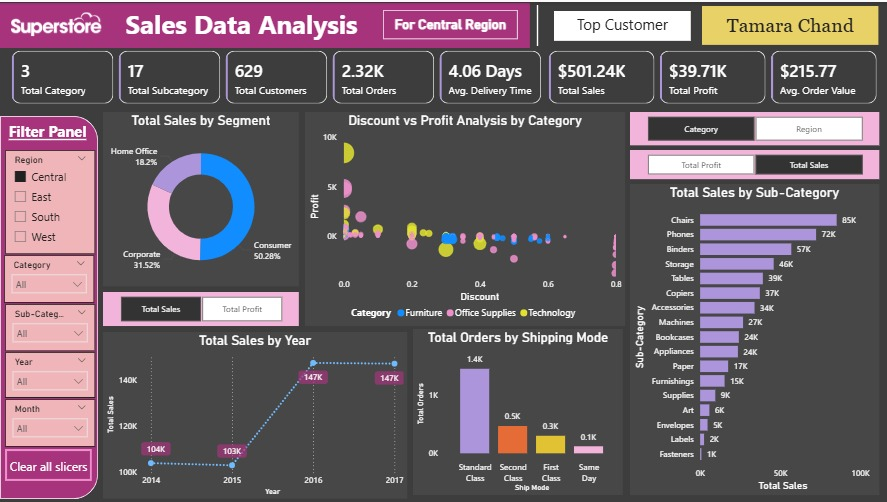

What the dashboard file says about the page in this screenshot:
{"tool":"powerbi","page":{"name":"Page 1","canvas":[1280,720],"ordinal":0},"visuals":[{"type":"shape","box":[0,0,1280.2,63.4],"z":0},{"type":"textbox","box":[361.4,0,535.7,60.5],"z":1000},{"type":"cardVisual","fields":{"Data":["sales_data.Total Customers","sales_data.Total Orders","sales_data.Total Category","sales_data.Total Subcategory"]},"box":[148.3,53.3,653.8,110.9],"z":2000},{"type":"cardVisual","fields":{"Data":["sales_data.Total Sales","sales_data.Total Profit","sales_data.Average Order Value"]},"box":[774.7,53.3,505.4,110.9],"z":3000},{"type":"shape","box":[0,73.4,141.1,636.5],"z":4000},{"type":"textbox","box":[0,93.8,136.2,49.2],"z":5000},{"type":"lineChart","fields":{"Y":["sales_data.Total Sales"],"Category":["sales_data.month_name"]},"box":[148.3,469.4,748.8,240.5],"z":6000},{"type":"slicer","fields":{"Values":["sales_data.year"]},"box":[6.7,482.2,130,66.7],"z":7000},{"type":"slicer","fields":{"Values":["sales_data.month"]},"box":[6.7,555.6,130,68.9],"z":8000},{"type":"slicer","fields":{"Values":["Choose Y-Axis.Choose Y-Axis"]},"box":[148.3,414.7,277.9,46.1],"z":9000},{"type":"slicer","fields":{"Values":["Choose Y-Axis Values 2.Choose Y-Axis Values"]},"box":[907.2,158.4,358.6,47.5],"z":10000},{"type":"clusteredBarChart","fields":{"Category":["sales_data.Sub-Category"],"Y":["sales_data.Total Sales"]},"box":[907.2,262.1,358.6,447.8],"z":11000},{"type":"slicer","fields":{"Values":["Choose X-Axis.Choose X-Axis"]},"box":[907.2,210.2,358.6,41.8],"z":12000},{"type":"scatterChart","title":"Discount vs Profit Analysis by Category","fields":{"X":["Avg(sales_data.discount)"],"Y":["Sum(sales_data.profit)"],"Size":["Sum(sales_data.sales)"],"Series":["sales_data.Category"],"Category":["sales_data.order_id"]},"box":[439.2,158.4,460.8,299.5],"z":13000},{"type":"donutChart","title":"Total Sales by Segment","fields":{"Category":["sales_data.segment"],"Y":["sales_data.Total Sales"]},"box":[148.3,158.4,282.2,250.6],"z":14000},{"type":"slicer","fields":{"Values":["sales_data.Category"]},"box":[5.6,332.2,130,70],"z":15000},{"type":"slicer","fields":{"Values":["sales_data.Region"]},"box":[0,136.7,141.1,191.1],"z":16000},{"type":"slicer","fields":{"Values":["sales_data.Sub-Category"]},"box":[6.7,407.8,130,67.8],"z":17000},{"type":"image","box":[0,10.1,229,43.2],"z":18000},{"type":"actionButton","box":[7.1,634.3,125.7,45.7],"z":19000},{"type":"card","fields":{"Values":["Choose X-Axis.Dynamic Title1"]},"box":[1074.3,7.1,180,50],"z":20000}]}

Visuals, with their boxes in screenshot pixels (x1, y1, x2, y2), scaled from the page's 1280x720 canvas onto the 887x502 screenshot:
shape: {"x1": 0, "y1": 0, "x2": 886, "y2": 44}
textbox: {"x1": 250, "y1": 0, "x2": 622, "y2": 42}
cardVisual - sales_data.Total Customers x sales_data.Total Orders: {"x1": 103, "y1": 37, "x2": 556, "y2": 114}
cardVisual - sales_data.Total Sales x sales_data.Total Profit: {"x1": 537, "y1": 37, "x2": 886, "y2": 114}
shape: {"x1": 0, "y1": 51, "x2": 98, "y2": 495}
textbox: {"x1": 0, "y1": 65, "x2": 94, "y2": 100}
lineChart - sales_data.Total Sales x sales_data.month_name: {"x1": 103, "y1": 327, "x2": 622, "y2": 495}
slicer - sales_data.year: {"x1": 5, "y1": 336, "x2": 95, "y2": 383}
slicer - sales_data.month: {"x1": 5, "y1": 387, "x2": 95, "y2": 435}
slicer - Choose Y-Axis.Choose Y-Axis: {"x1": 103, "y1": 289, "x2": 295, "y2": 321}
slicer - Choose Y-Axis Values 2.Choose Y-Axis Values: {"x1": 629, "y1": 110, "x2": 877, "y2": 144}
clusteredBarChart - sales_data.Sub-Category x sales_data.Total Sales: {"x1": 629, "y1": 183, "x2": 877, "y2": 495}
slicer - Choose X-Axis.Choose X-Axis: {"x1": 629, "y1": 147, "x2": 877, "y2": 176}
"Discount vs Profit Analysis by Category" scatterChart: {"x1": 304, "y1": 110, "x2": 624, "y2": 319}
"Total Sales by Segment" donutChart: {"x1": 103, "y1": 110, "x2": 298, "y2": 285}
slicer - sales_data.Category: {"x1": 4, "y1": 232, "x2": 94, "y2": 280}
slicer - sales_data.Region: {"x1": 0, "y1": 95, "x2": 98, "y2": 229}
slicer - sales_data.Sub-Category: {"x1": 5, "y1": 284, "x2": 95, "y2": 332}
image: {"x1": 0, "y1": 7, "x2": 159, "y2": 37}
actionButton: {"x1": 5, "y1": 442, "x2": 92, "y2": 474}
card - Choose X-Axis.Dynamic Title1: {"x1": 744, "y1": 5, "x2": 869, "y2": 40}
